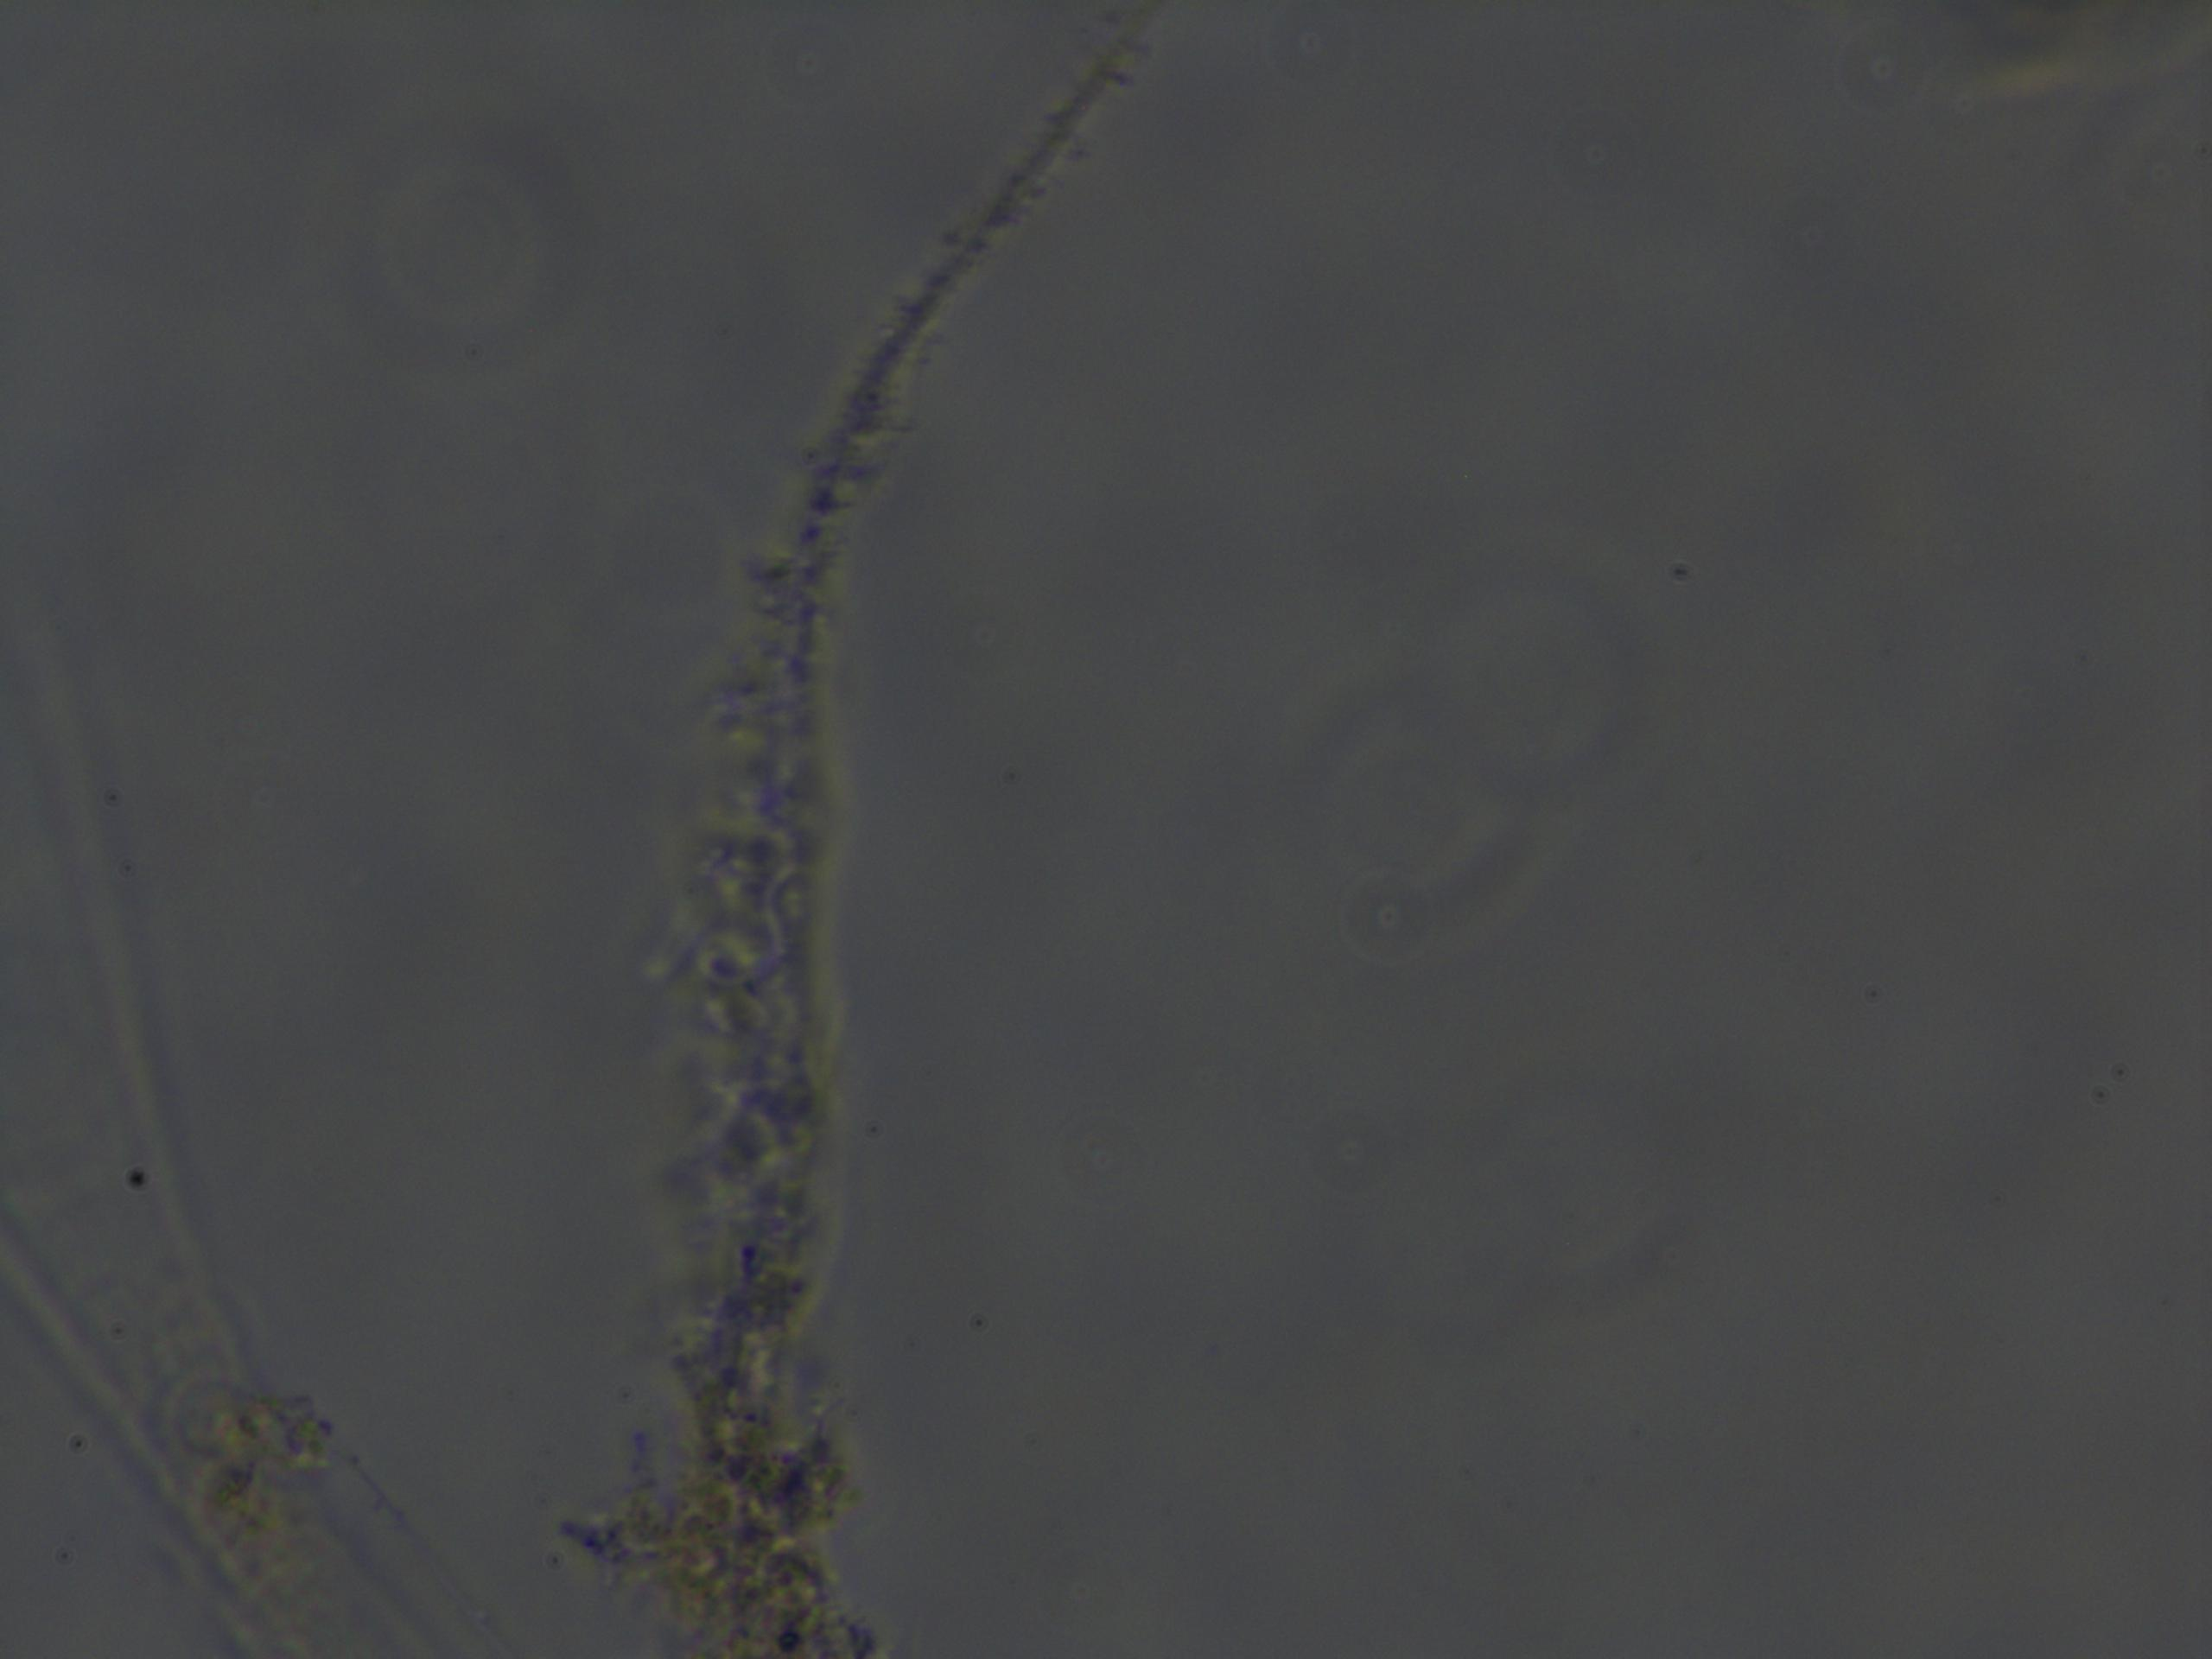filament: (615, 2, 1151, 1659), (3, 526, 474, 1659)
